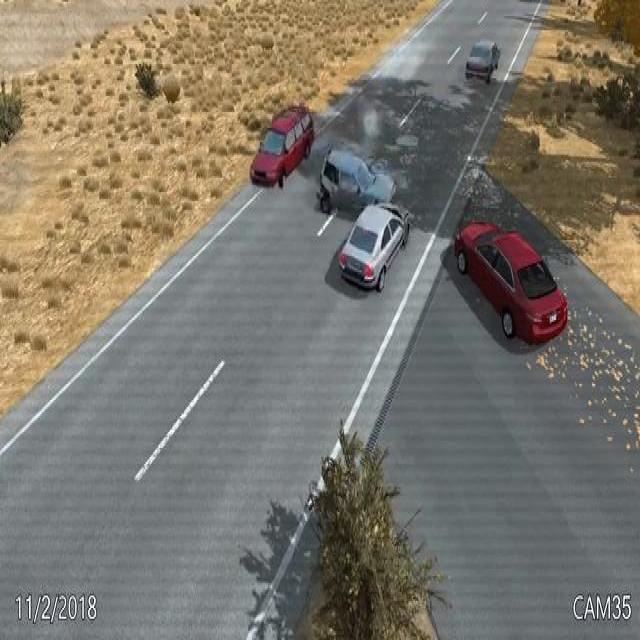accident: (315, 142, 414, 297)
